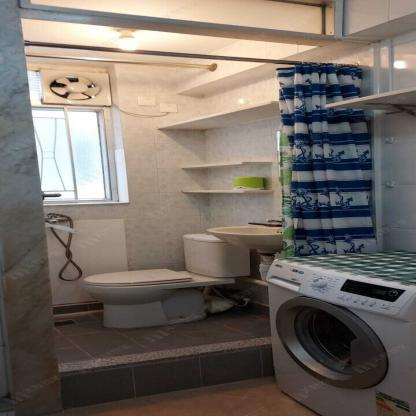Exhaust Fan: (39, 69, 112, 106)
Toilet: (81, 233, 251, 328)
Toilet Sink: (205, 225, 282, 248)
Washing Machine: (266, 259, 415, 416)
